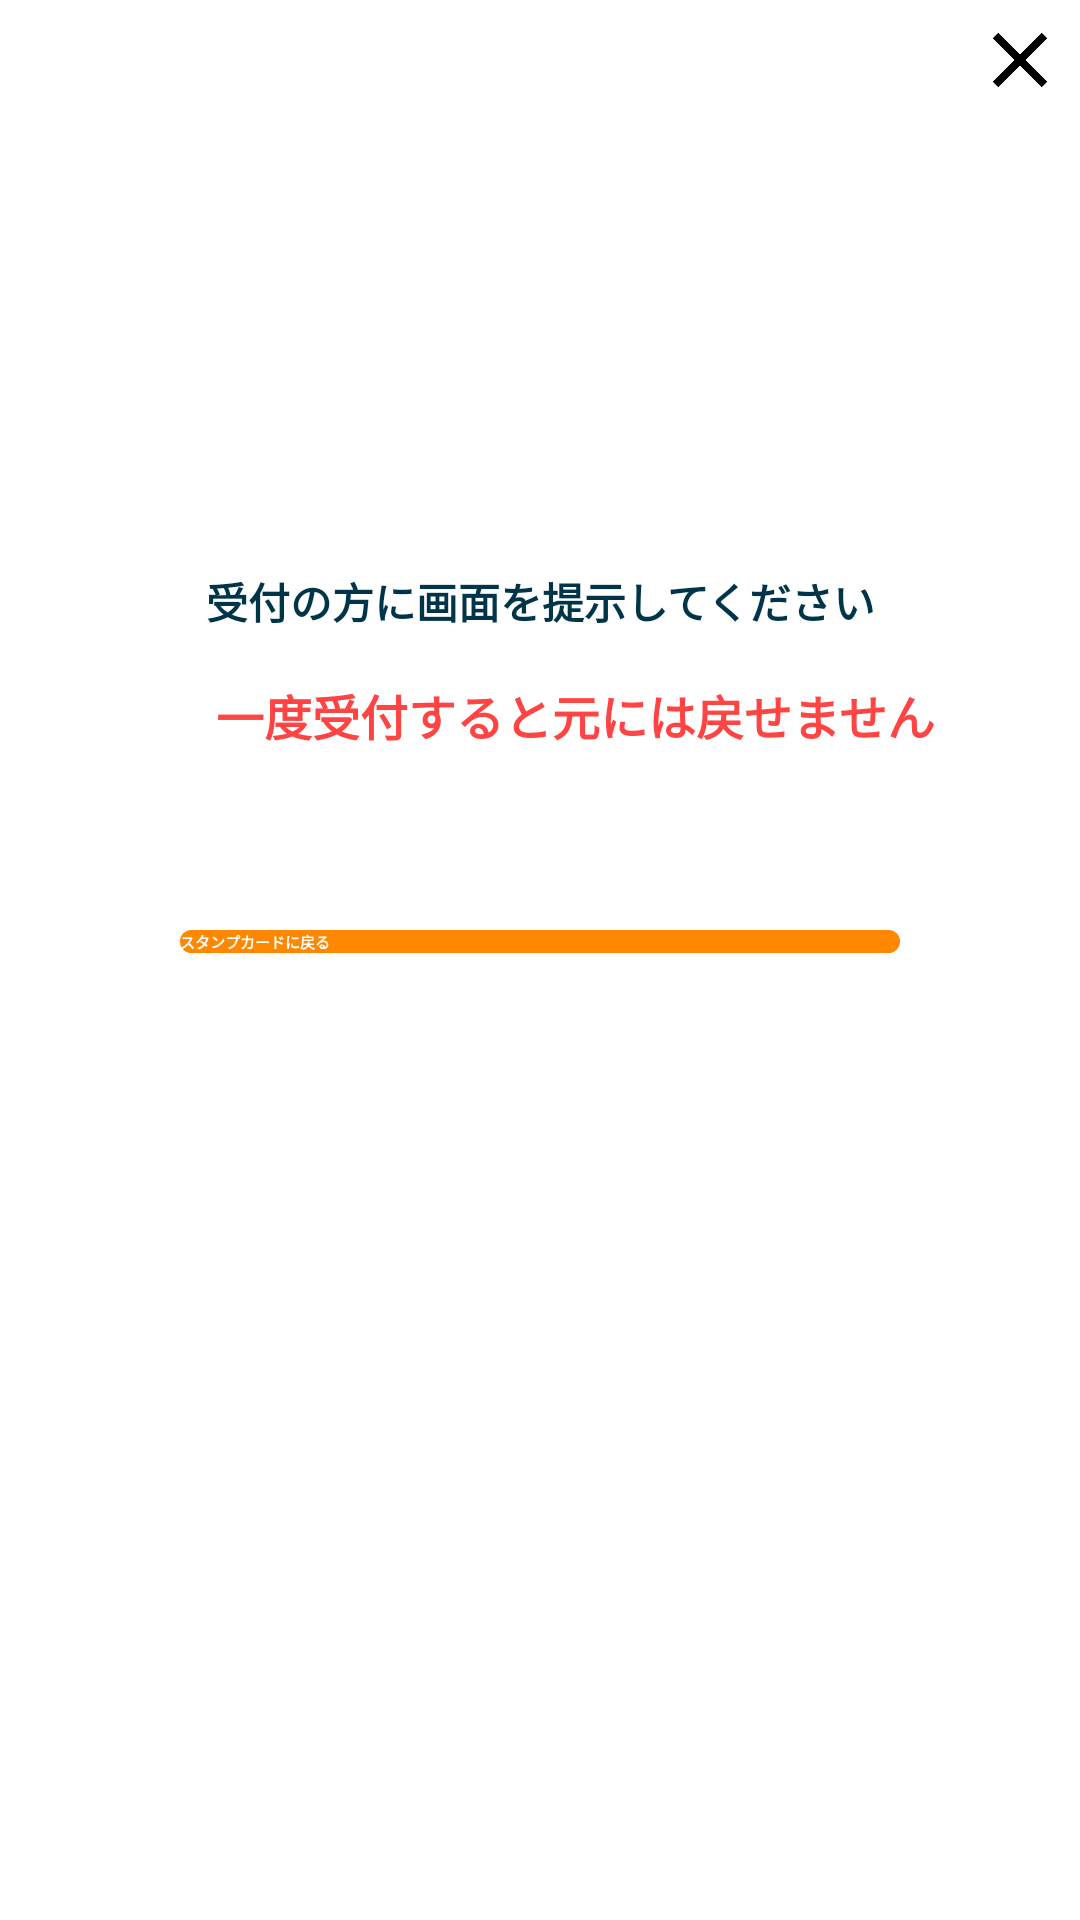

Icon click points for this 1080px x 1920px phone screenshot, format [x,y]:
close: [1020,60]
